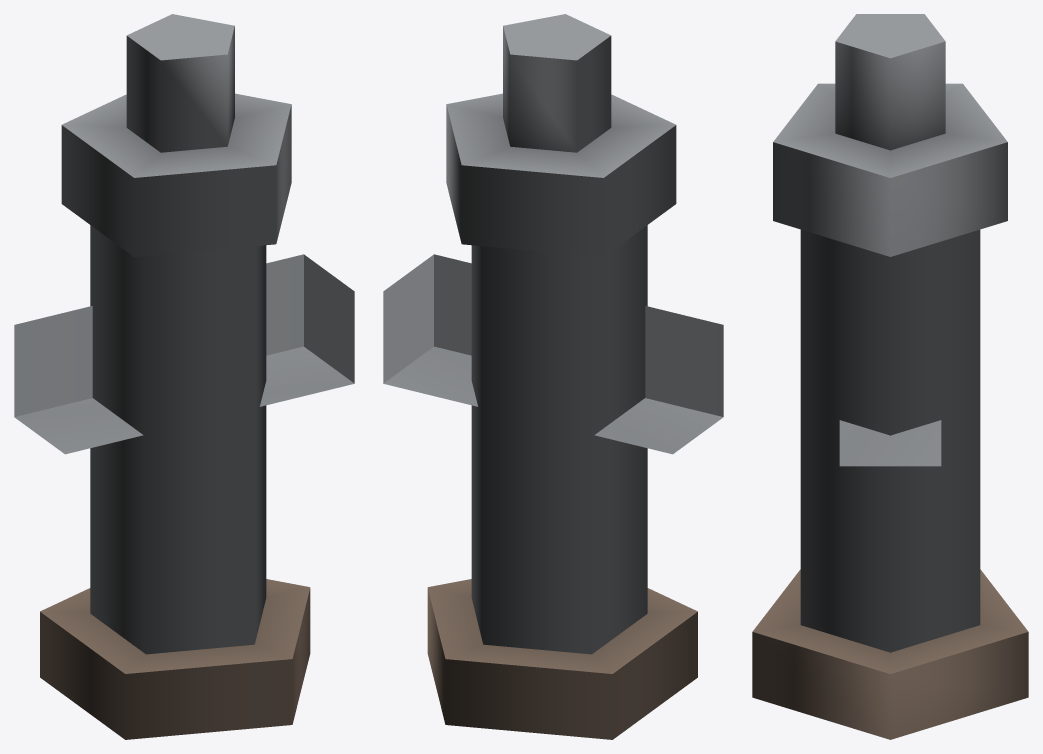
Rendered from hydrant.lod2.glb.
3 views of the same model, side by side, from view 1: azimuth 30°, elevation 25°; view 2: azimuth 150°, elevation 25°; view 3: azimuth 270°, elevation 25° (orthographic).
Parts seen in each view (by area): view 1: props_hydrant.lod2; view 2: props_hydrant.lod2; view 3: props_hydrant.lod2.
Boxes of the visible parts, box(x1,y1,x2,y2) form: props_hydrant.lod2: box(14, 14, 354, 739); props_hydrant.lod2: box(383, 14, 723, 739); props_hydrant.lod2: box(752, 14, 1028, 739).
Size of the model in its own units: 0.46 by 0.98 by 0.3804.
